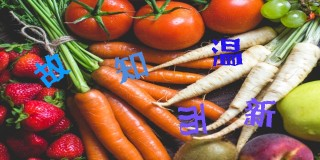故: (34, 54, 70, 87)
新: (243, 96, 276, 129)
温: (211, 36, 244, 67)
知: (114, 50, 149, 85)
而: (177, 102, 209, 137)
